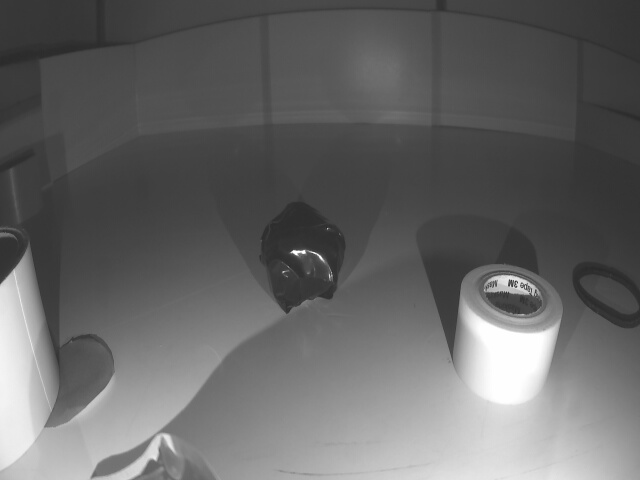Dead: (257, 198, 342, 304)
Point: (581, 105, 640, 169)
